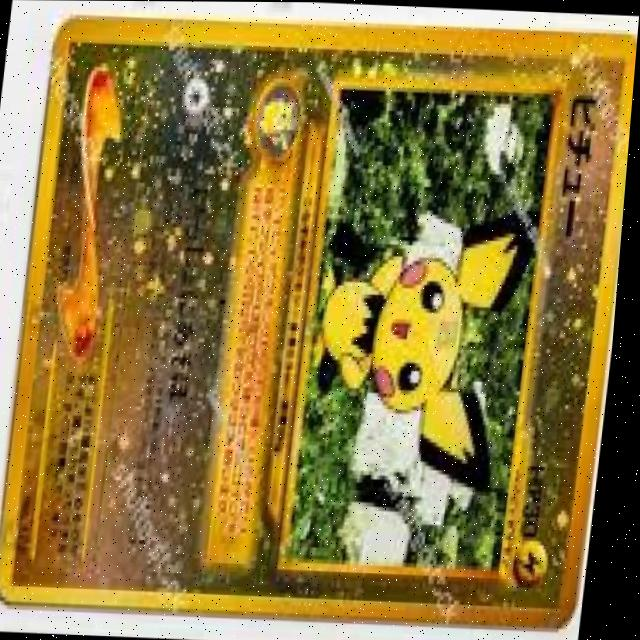pichu: (320, 201, 536, 470)
